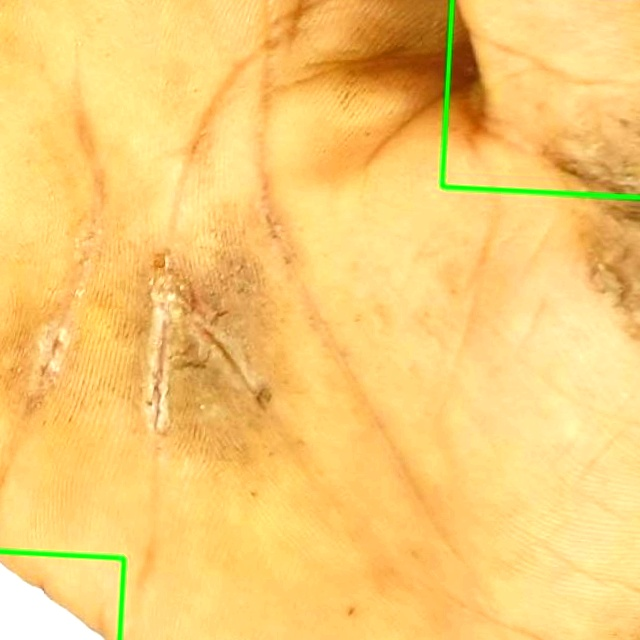Contact Dermatitis: (442, 0, 639, 197), (0, 551, 124, 639)
